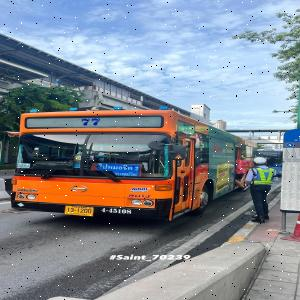BMTA-bus: (11, 110, 257, 221)
Bus Line Number: (73, 117, 108, 126)
Bus Side Number: (97, 206, 136, 216)
Destination Sign: (93, 162, 142, 178)
